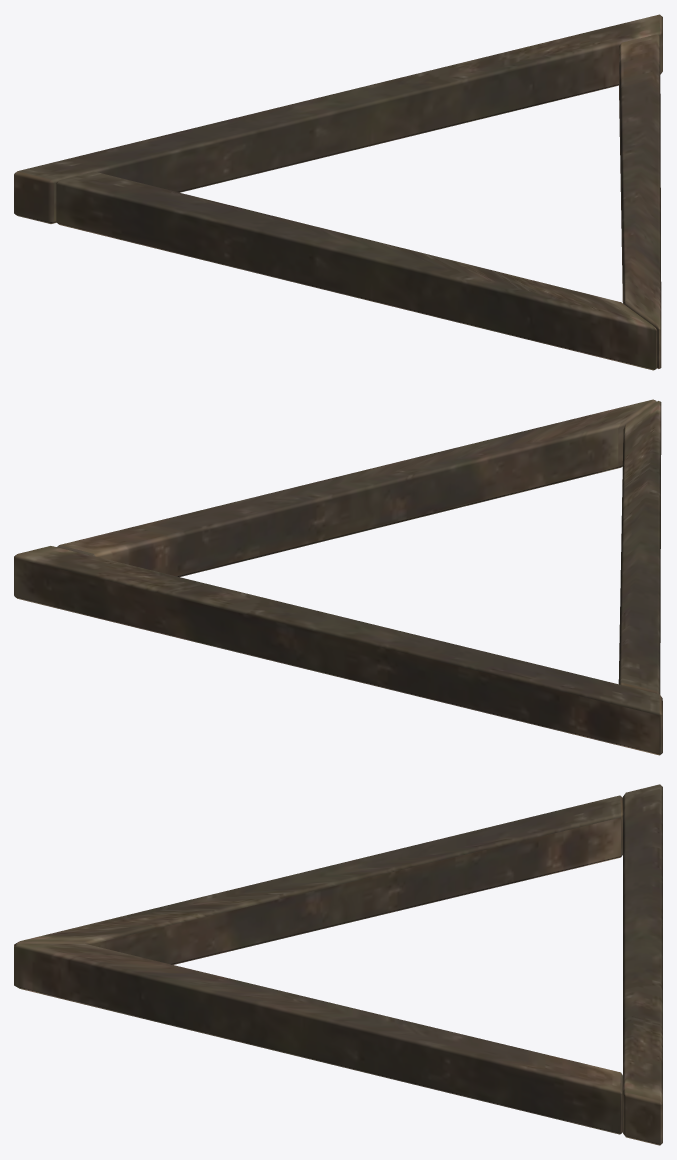
The model's file is floor.triangle.frontier.frame.glb.
3 views of the same model, one above another, from view 1: azimuth 30°, elevation 25°; view 2: azimuth 150°, elevation 25°; view 3: azimuth 270°, elevation 25° (orthographic).
Visible parts, largest first — view 1: floor.triangle.frame.frontier_LOD0; view 2: floor.triangle.frame.frontier_LOD0; view 3: floor.triangle.frame.frontier_LOD0.
Part boxes in pixels (<box>): floor.triangle.frame.frontier_LOD0: <box>14,14,662,370</box>; floor.triangle.frame.frontier_LOD0: <box>14,399,662,755</box>; floor.triangle.frame.frontier_LOD0: <box>14,784,662,1145</box>.
Bounding box in the file's own units: 3.04 × 0.2 × 2.61.
Materials: 1 (1 with a texture image).
